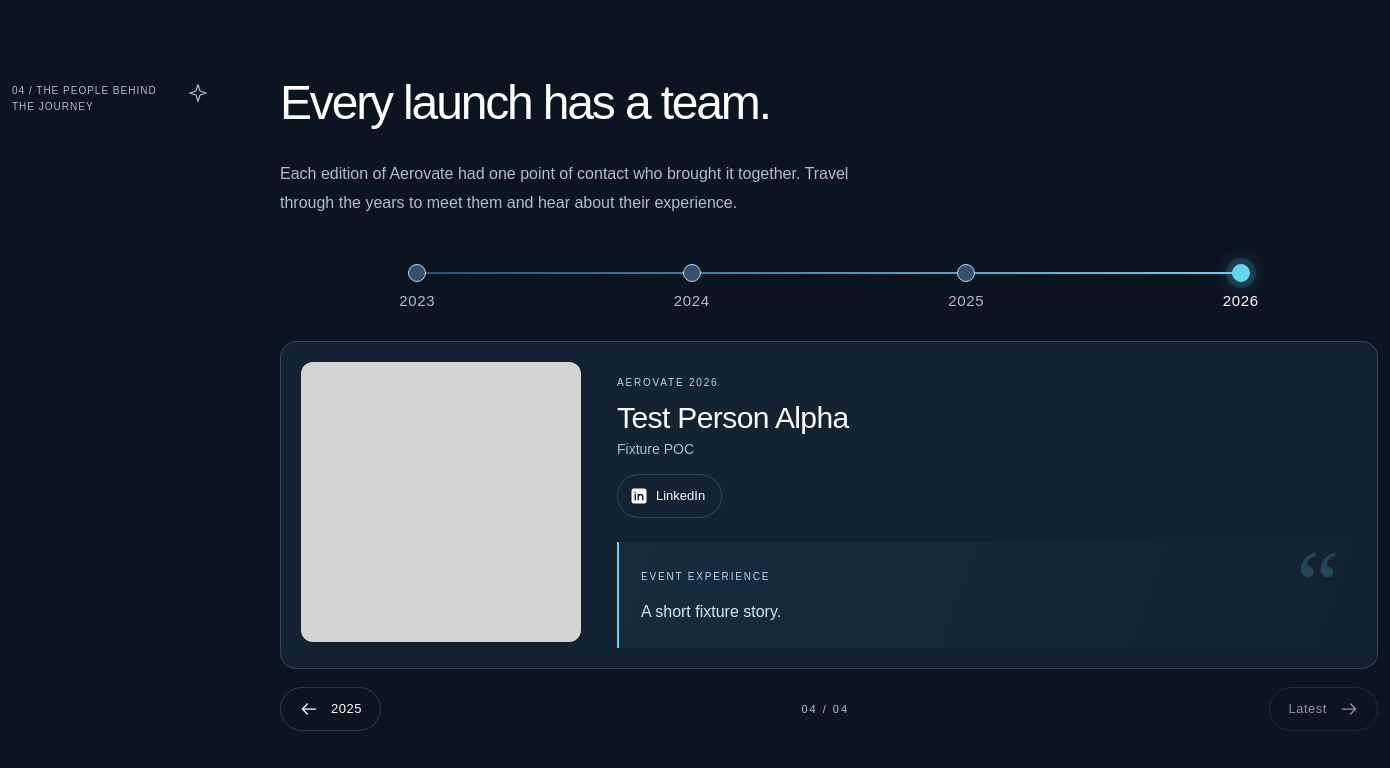
Past-year POC timeline › opens on the newest year and switches years from the timeline
Expected: the text "A short fixture story." is shown, [641, 603, 781, 620]
Click the tab "2024" at (692, 283), box [554, 252, 829, 315]
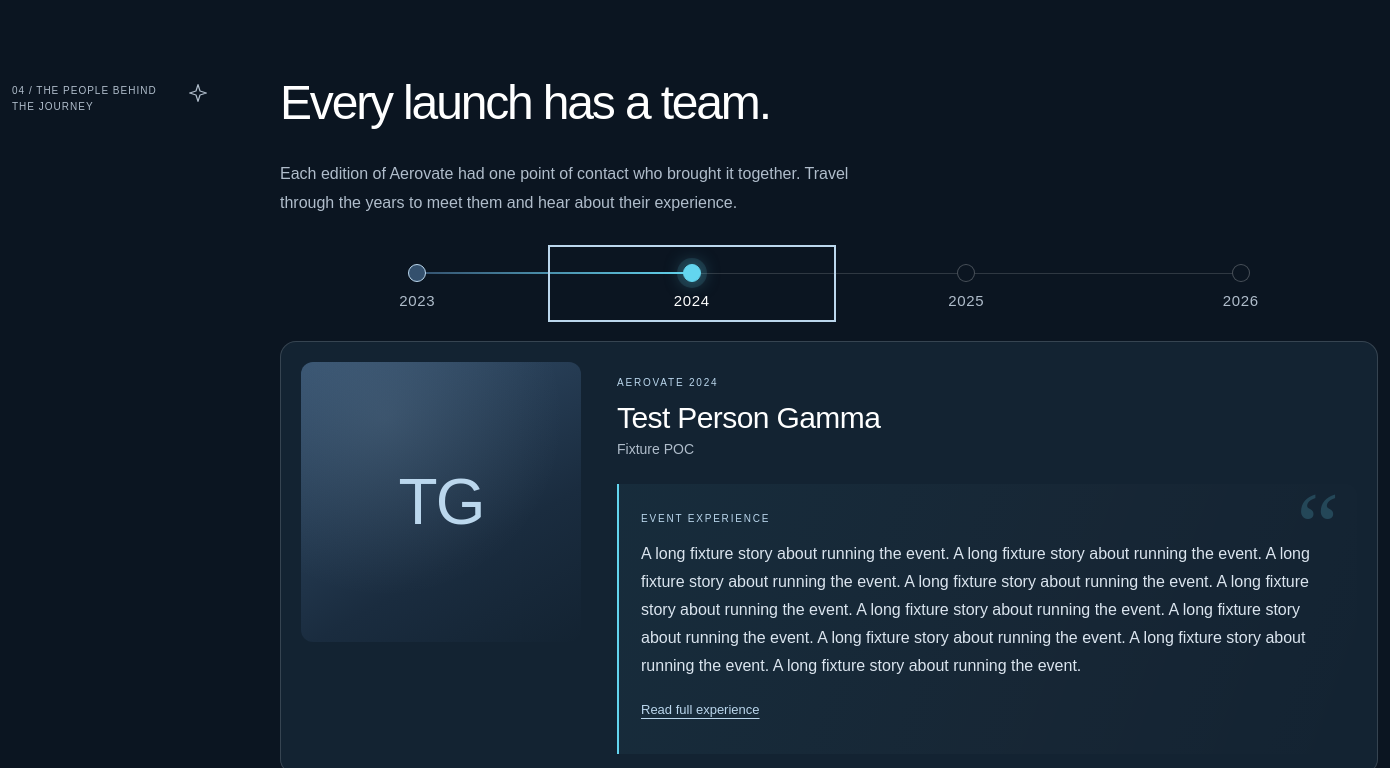
Result: the heading "Test Person Gamma" is shown at [617, 401, 880, 434]
